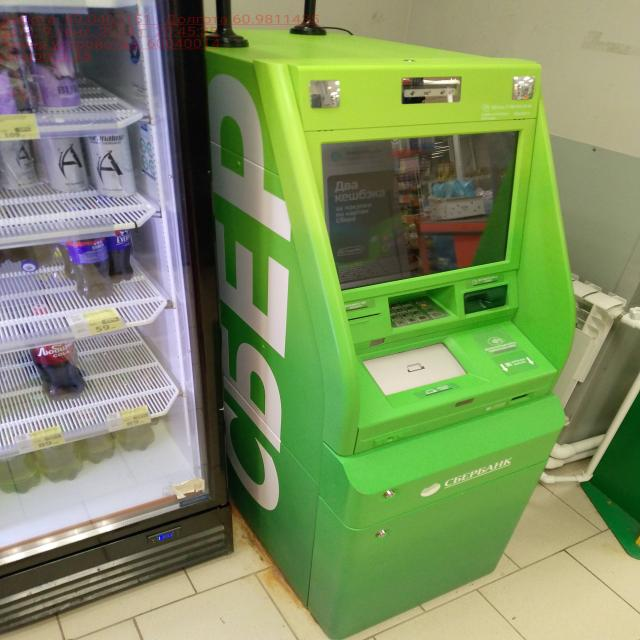bank: (183, 24, 580, 640)
